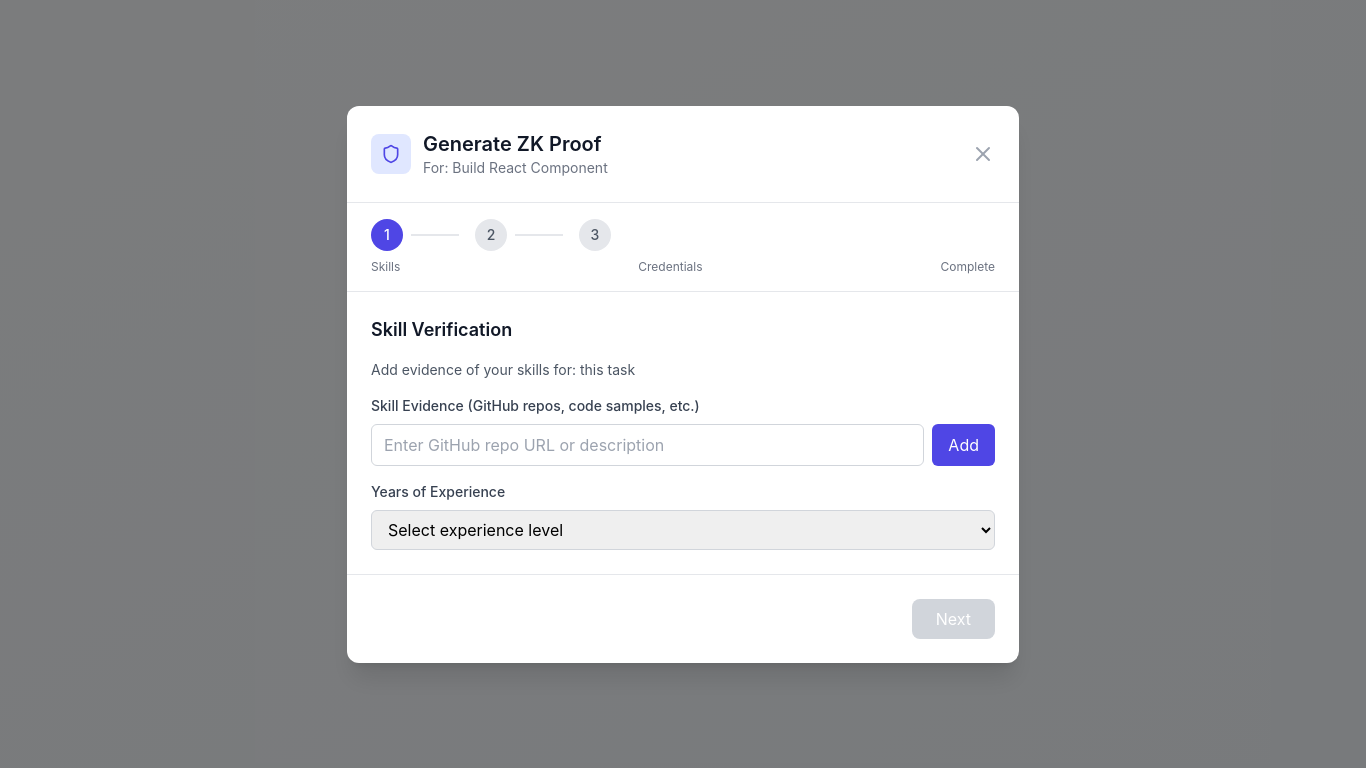
Test case: ProofGenerator Component › Step 2 - Additional Credentials › should show Back button and allow going back to step 1
The width and height of the screenshot is (1366, 768).
Type "test-proof" into the field with placeholder "Enter GitHub repo URL or description".
click(648, 444); type("test-proof")  # box [371, 424, 924, 466]
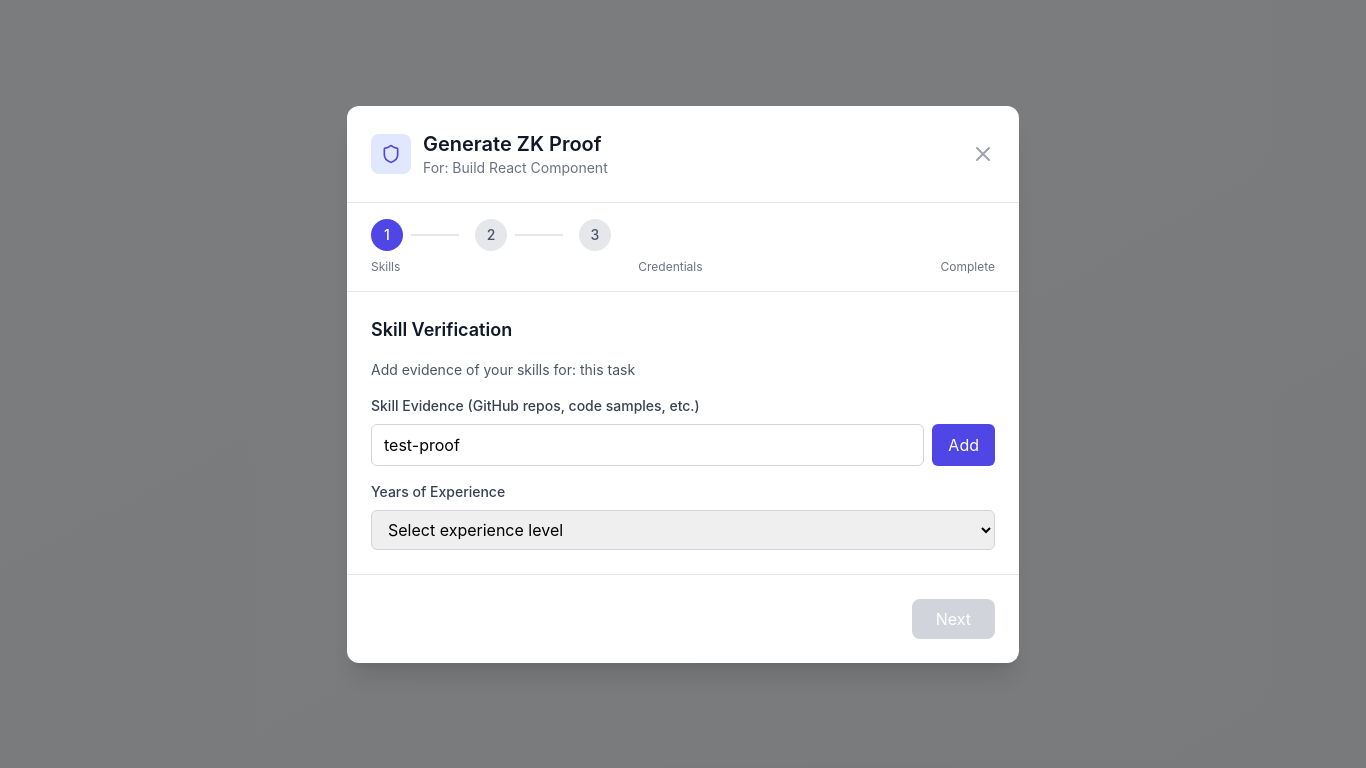
Click the button "Add".
click(964, 444)  # box [932, 424, 995, 466]
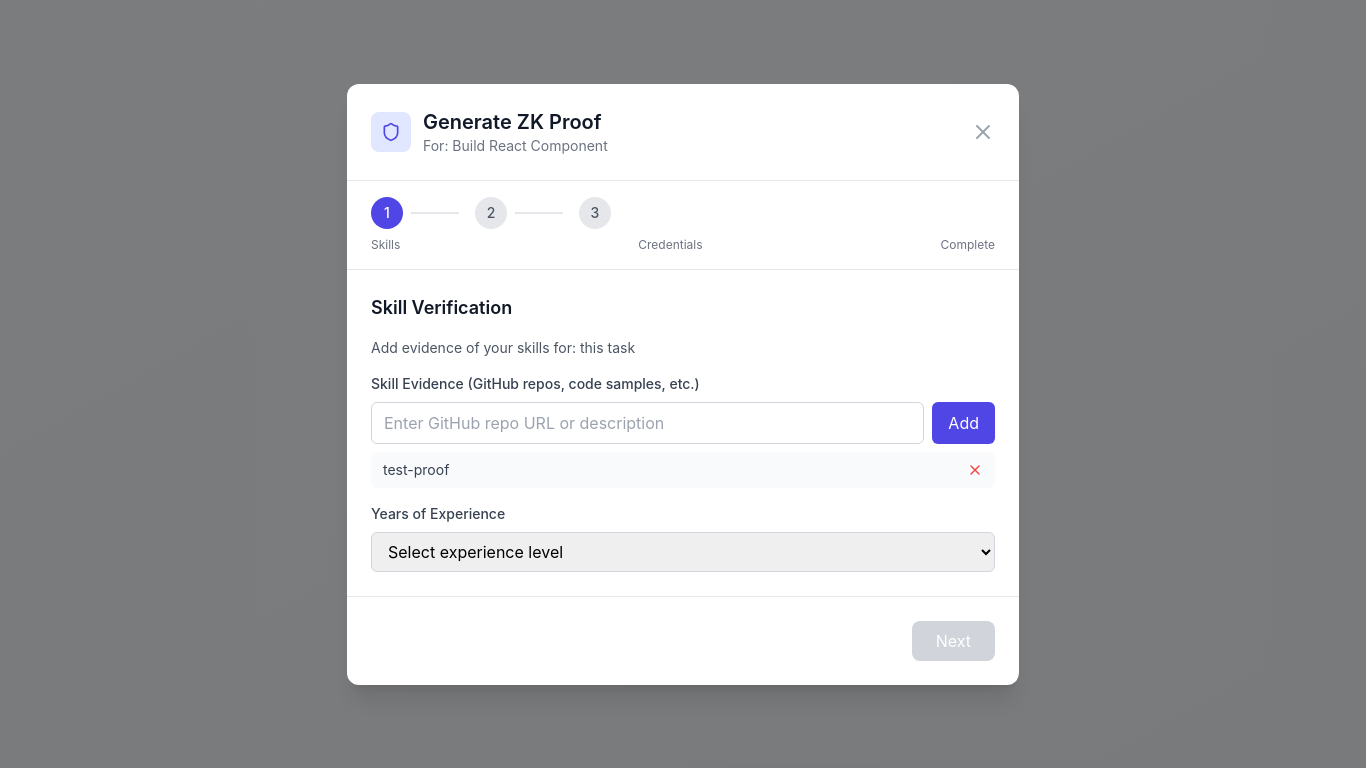
Select "3-5 years (Mid-level)" in the dropdown showing "Select experience level" at {"x": 683, "y": 552}, box [371, 532, 995, 572]
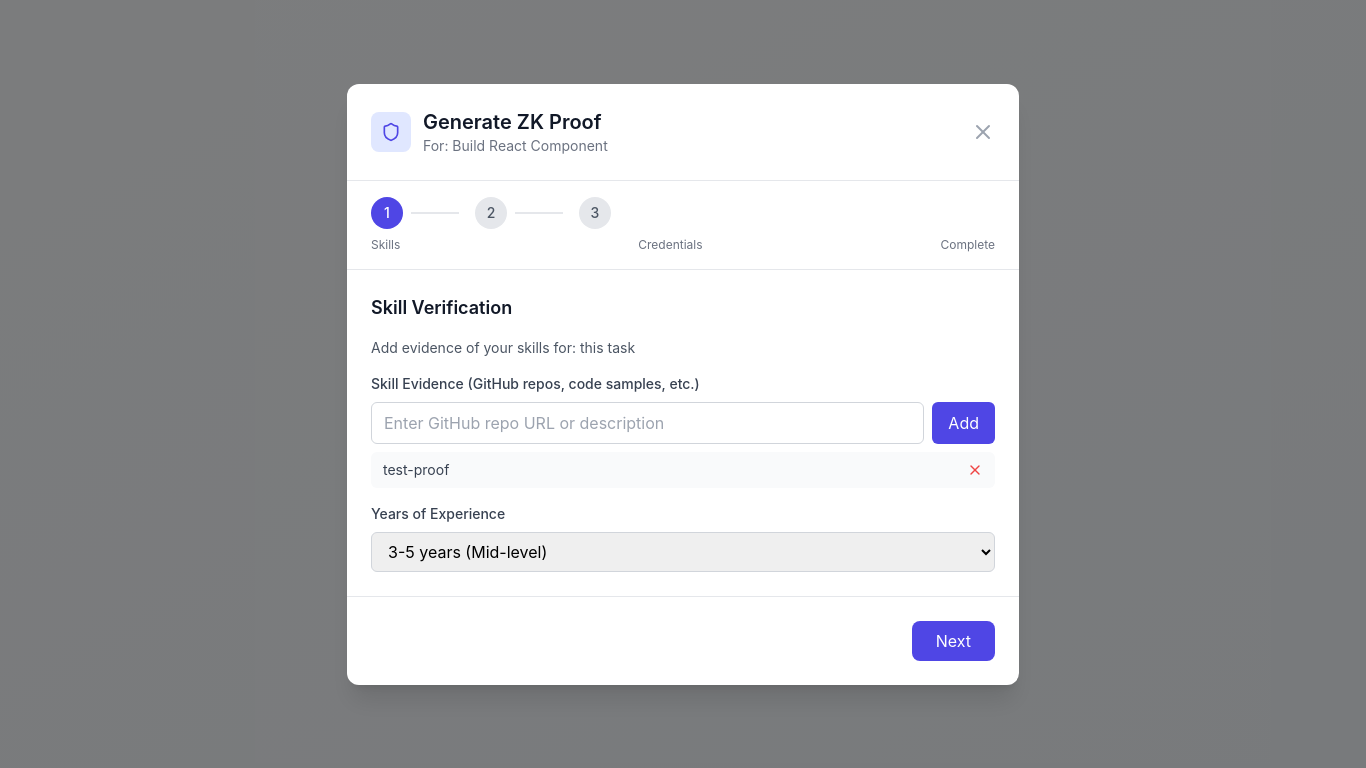
Click the button "Next".
click(953, 640)  # box [912, 620, 995, 660]
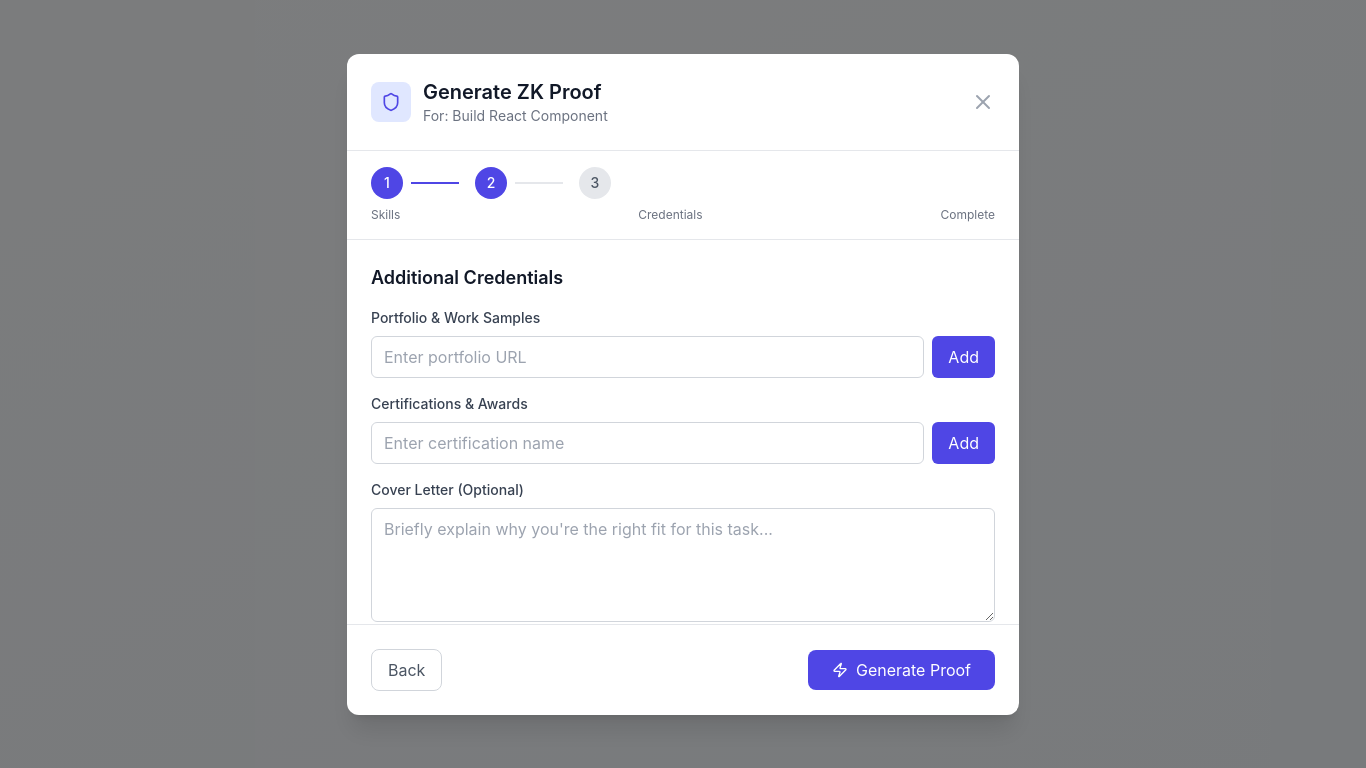
Click the button "Back".
click(407, 670)  # box [371, 648, 442, 690]
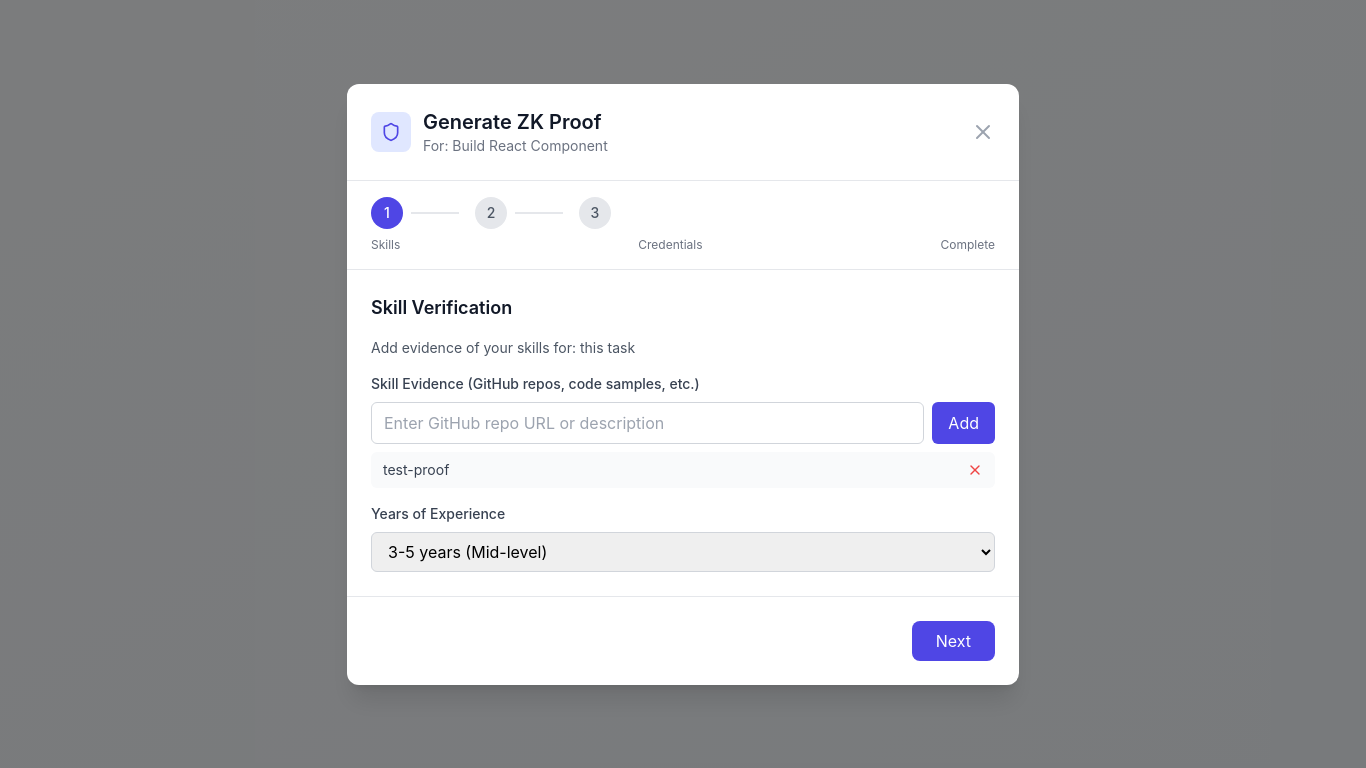
Expected: the heading "Skill Verification" is shown, [371, 296, 512, 318]
